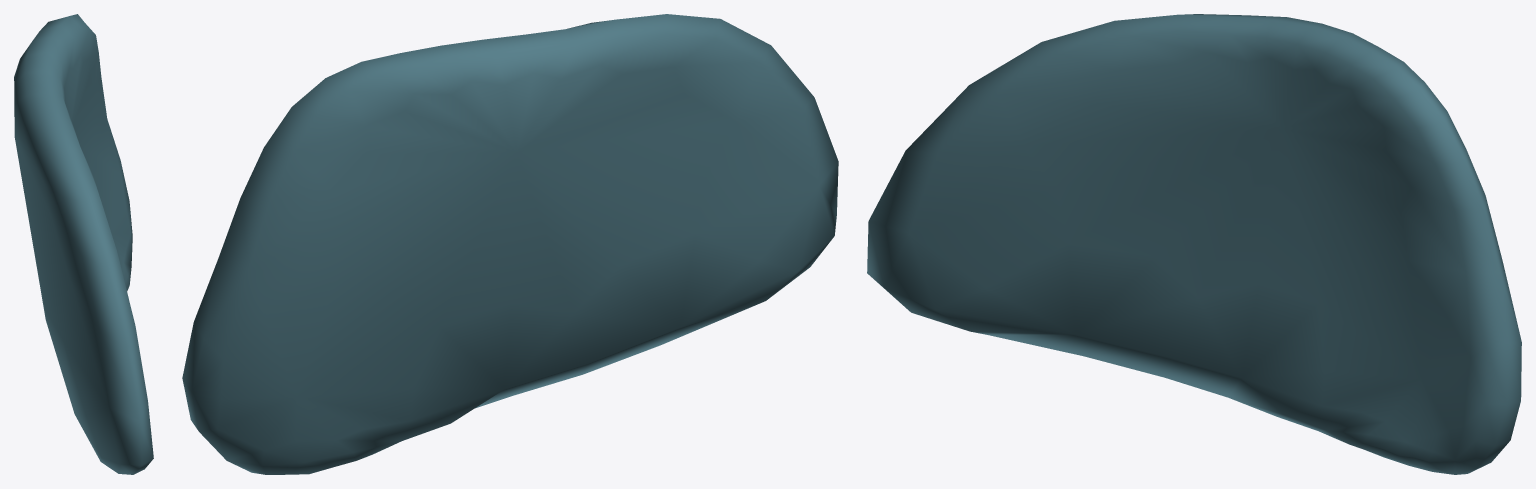
The model's file is Flexor_hallucis_brevis_1st_metatarsal_base_right.glb.
3 views of the same model, side by side, from view 1: azimuth 30°, elevation 25°; view 2: azimuth 150°, elevation 25°; view 3: azimuth 270°, elevation 25° (orthographic). The views are drawn at different scales.
Visible parts, largest first — view 1: Lateral_head_of_flexor_hallucis_brevis_on_1st_metatarsal_bas; view 2: Lateral_head_of_flexor_hallucis_brevis_on_1st_metatarsal_bas; view 3: Lateral_head_of_flexor_hallucis_brevis_on_1st_metatarsal_bas.
Boxes of the visible parts, x1,y1,x2,y2 form: Lateral_head_of_flexor_hallucis_brevis_on_1st_metatarsal_bas: (14,14,153,474); Lateral_head_of_flexor_hallucis_brevis_on_1st_metatarsal_bas: (182,14,838,474); Lateral_head_of_flexor_hallucis_brevis_on_1st_metatarsal_bas: (867,14,1521,474).
Size of the model in its own units: 0.00275 by 0.00332 by 0.00508.
